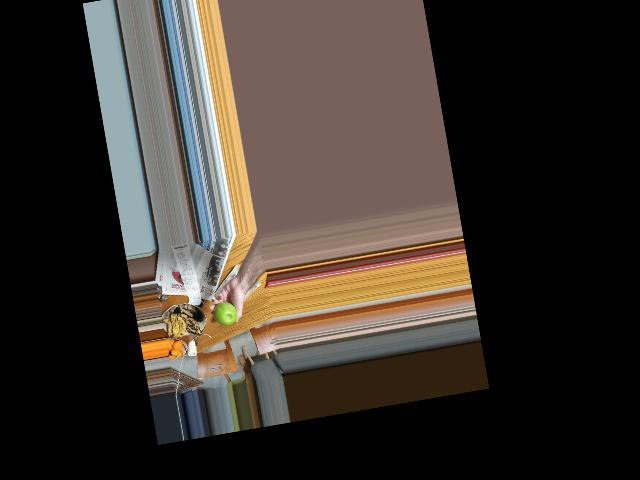apple: (212, 299, 239, 327)
